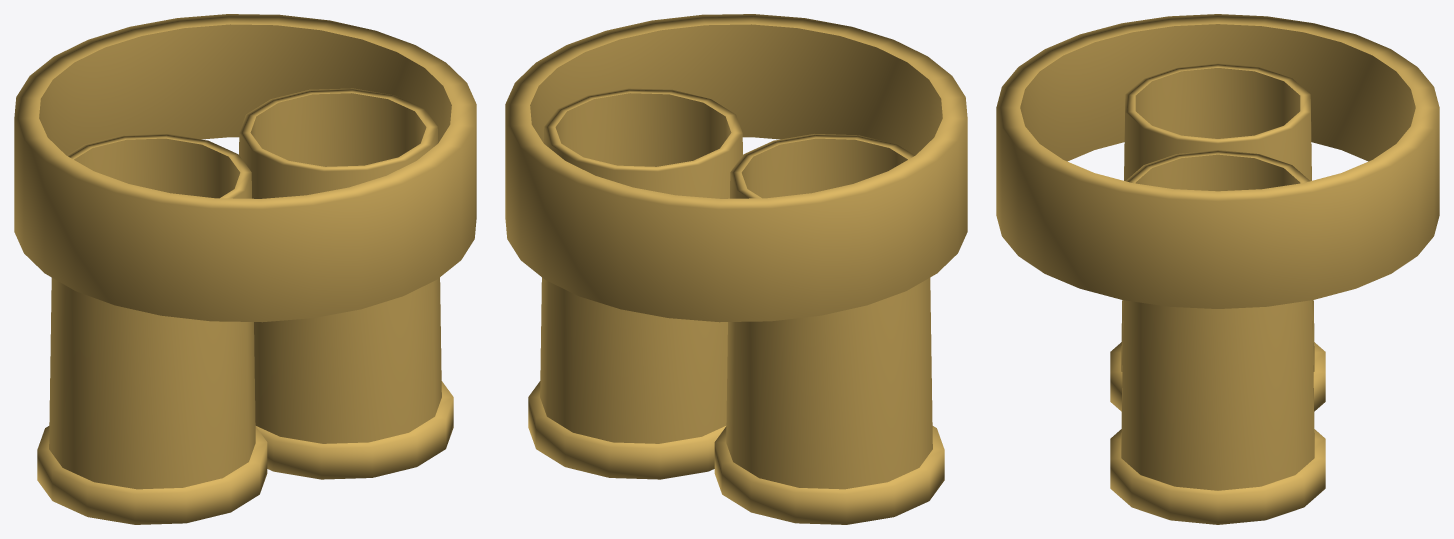
File: cargo_pants.glb
3 views of the same model, side by side, from view 1: azimuth 30°, elevation 25°; view 2: azimuth 150°, elevation 25°; view 3: azimuth 270°, elevation 25° (orthographic). The views are drawn at different scales.
Visible parts, largest first — view 1: cargo_pants_Body, cargo_pants_LegL, cargo_pants_LegR; view 2: cargo_pants_Body, cargo_pants_LegL, cargo_pants_LegR; view 3: cargo_pants_Body, cargo_pants_LegR, cargo_pants_LegL.
Boxes of the visible parts, bbox=[...] form: cargo_pants_Body: bbox=[14, 14, 476, 322]; cargo_pants_LegL: bbox=[37, 134, 267, 524]; cargo_pants_LegR: bbox=[239, 88, 453, 479]; cargo_pants_Body: bbox=[505, 14, 967, 322]; cargo_pants_LegL: bbox=[714, 134, 944, 524]; cargo_pants_LegR: bbox=[528, 88, 742, 479]; cargo_pants_Body: bbox=[996, 14, 1439, 308]; cargo_pants_LegR: bbox=[1110, 150, 1325, 524]; cargo_pants_LegL: bbox=[1110, 63, 1325, 411].
Bounding box in the file's own units: 0.41 × 0.334 × 0.41.
